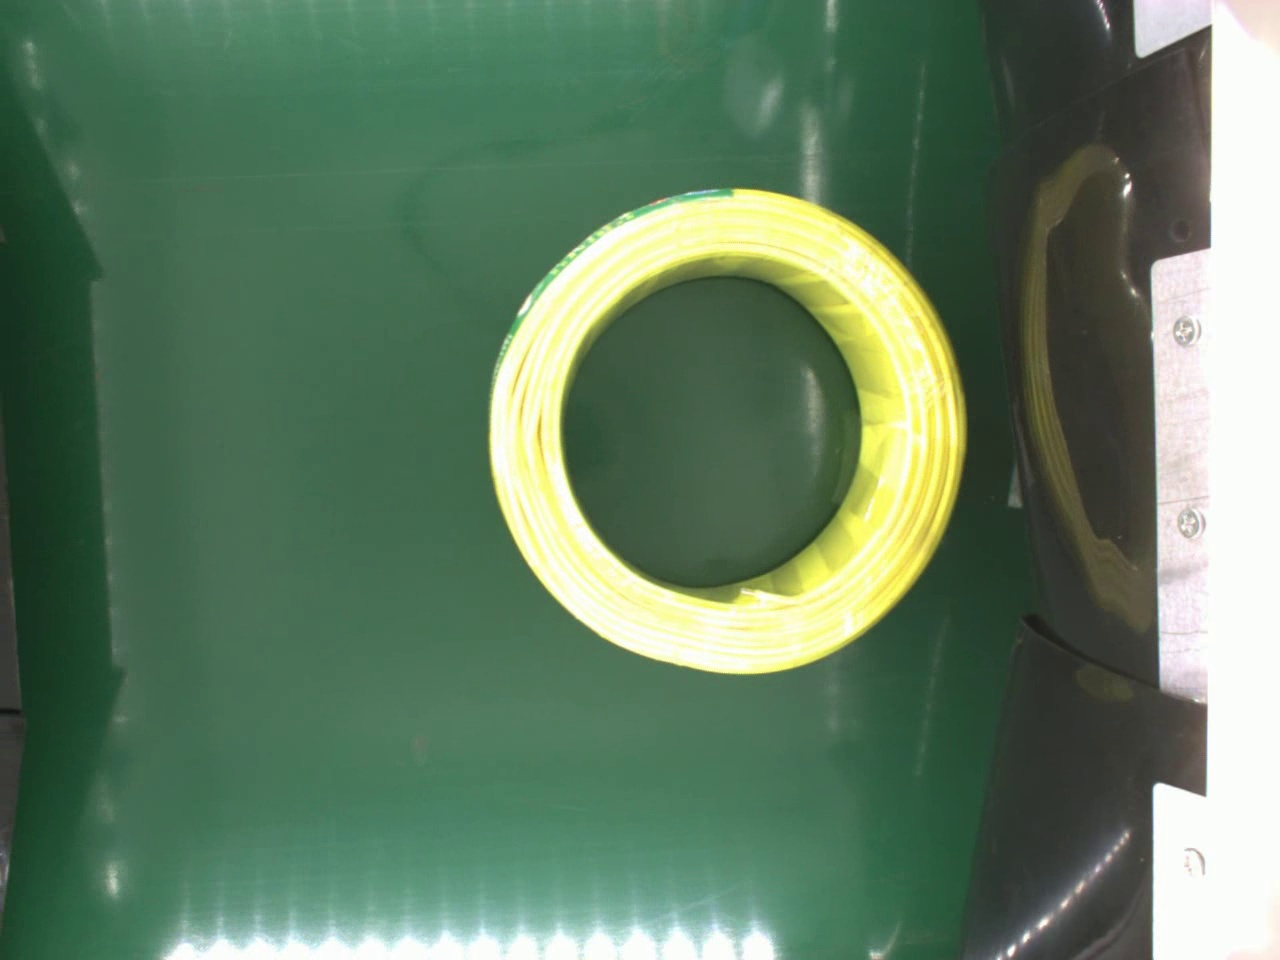yellow: (484, 186, 971, 679)
